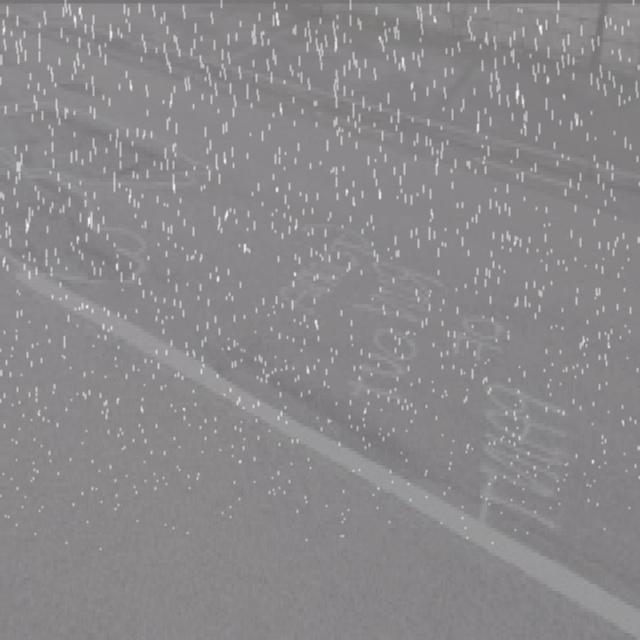Pothole: (0, 96, 194, 188), (0, 180, 147, 293)
